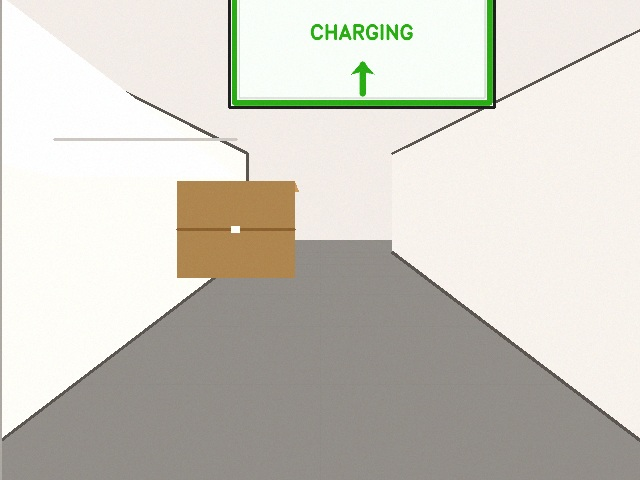box: (177, 181, 298, 277)
directional_sign: (229, 0, 494, 107)
hospital_bed: (0, 0, 236, 479)
